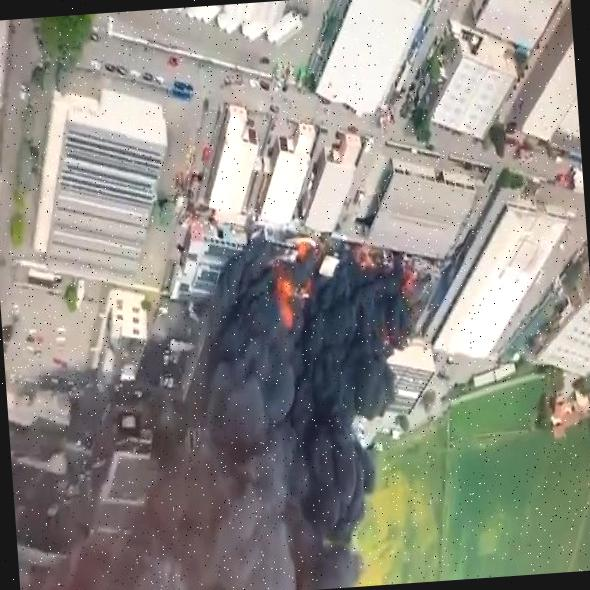smoke: (8, 341, 431, 590), (191, 240, 281, 367)
